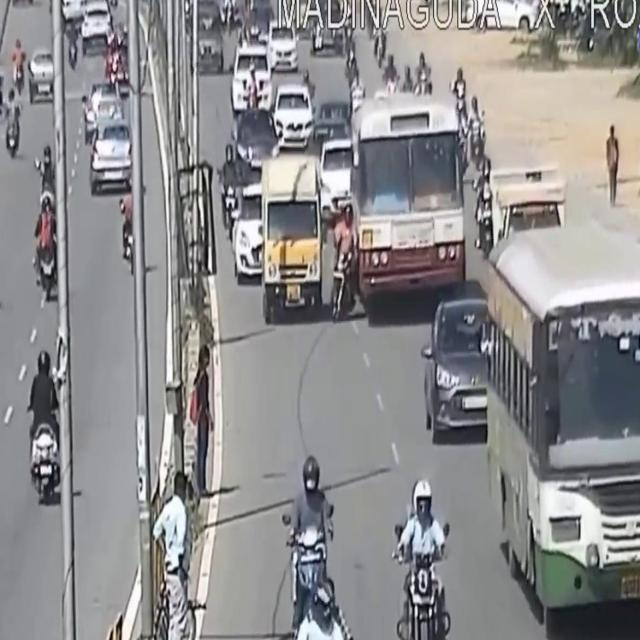accident: (326, 82, 470, 330)
non_accident: (422, 155, 640, 640), (194, 0, 319, 158), (63, 0, 133, 196), (30, 140, 55, 318)
